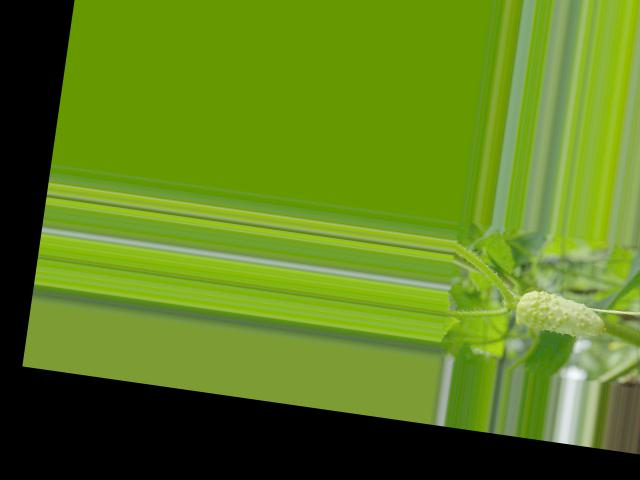cucumber: (513, 287, 611, 339)
